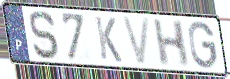7: (60, 11, 87, 63)
G: (187, 20, 219, 70)
H: (151, 19, 191, 69)
K: (93, 15, 124, 65)
S: (28, 9, 62, 61)
V: (120, 15, 152, 67)
